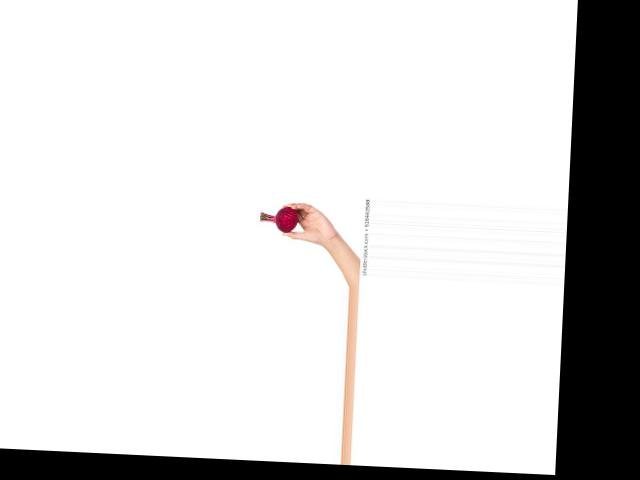beet: (259, 204, 297, 232)
